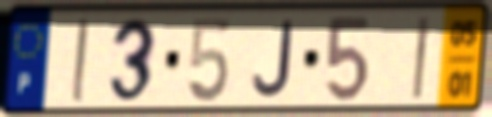3: (105, 13, 166, 106)
5: (321, 13, 376, 104), (185, 15, 233, 105)
I: (410, 14, 434, 102), (69, 16, 91, 105)
J: (250, 18, 295, 101)
